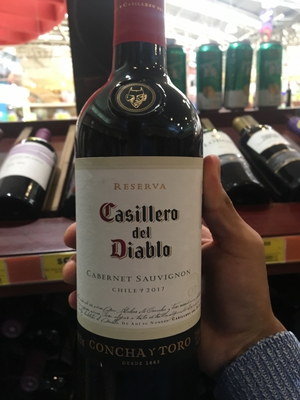casillero del diablo cabernet sauvignon: (72, 9, 204, 393)
